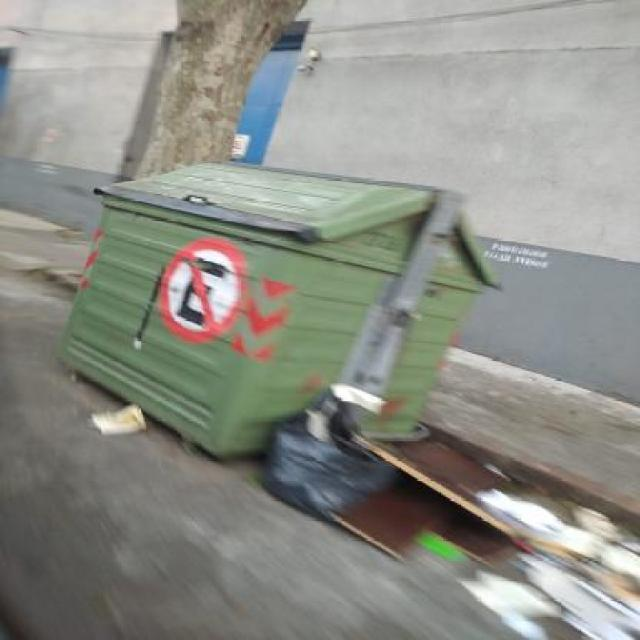garbage: (257, 369, 640, 640), (69, 386, 186, 440)
